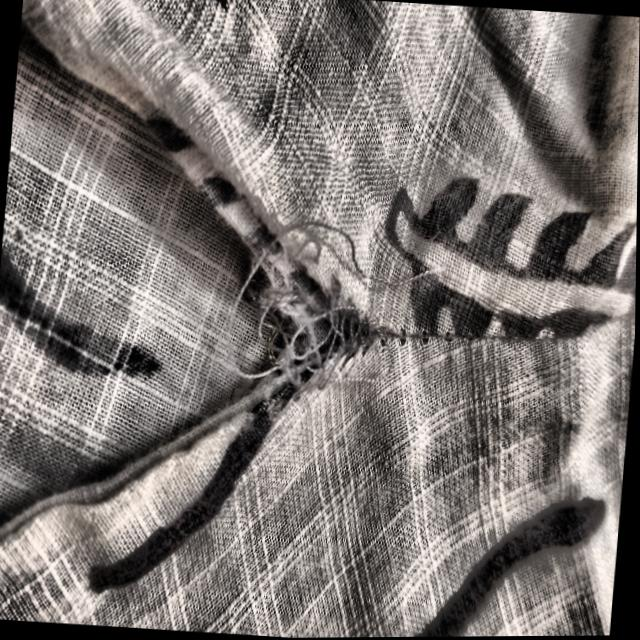Stitch: (206, 176, 452, 447)
